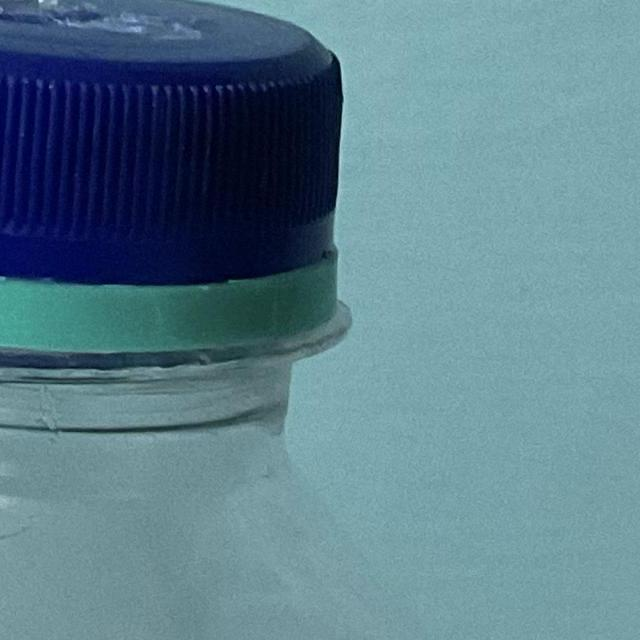Good-cap-Df0S: (0, 0, 373, 399)
